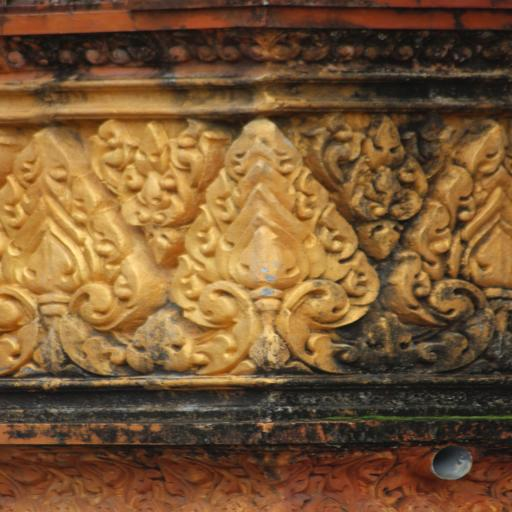la: (188, 126, 355, 376), (0, 135, 121, 386), (424, 134, 512, 367), (104, 120, 201, 258), (339, 116, 426, 253)
